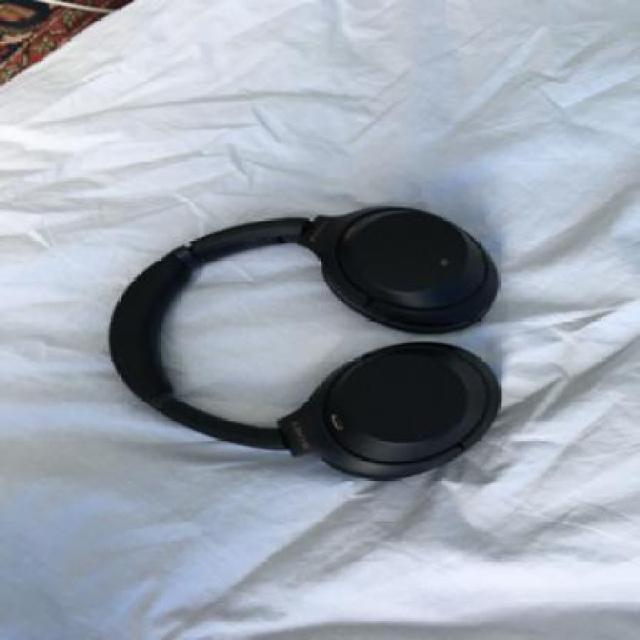earphone: (93, 143, 525, 495)
